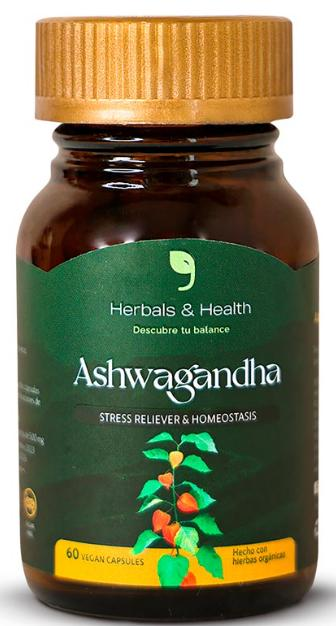brand: (104, 296, 254, 319)
net_weight: (65, 546, 146, 568)
product_name: (72, 352, 286, 405)
